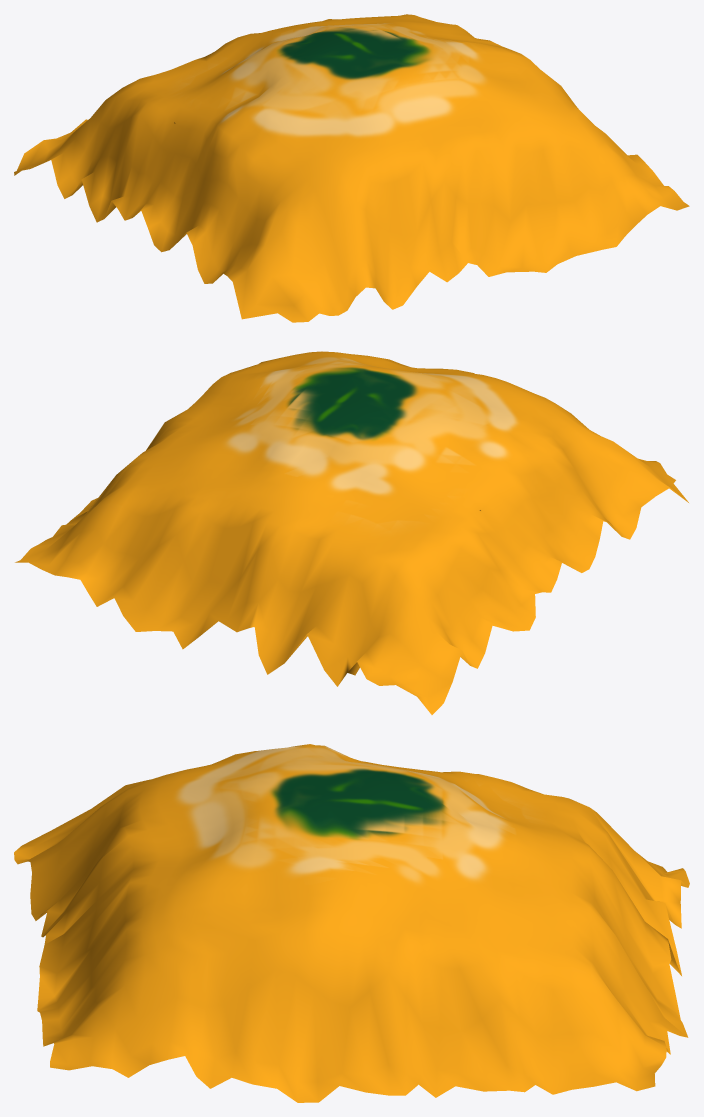
File: island.glb
3 views of the same model, one above another, from view 1: azimuth 30°, elevation 25°; view 2: azimuth 150°, elevation 25°; view 3: azimuth 270°, elevation 25° (orthographic). The views are drawn at different scales.
Visible parts, largest first — view 1: Plane; view 2: Plane; view 3: Plane.
Part boxes in pixels (box(x1,y1,x2,y2)): Plane: box(14, 14, 689, 322); Plane: box(15, 351, 688, 714); Plane: box(14, 744, 689, 1102).
Size of the model in its own units: 56.25 by 20.51 by 59.18.
Materials: 1 (1 with a texture image).
